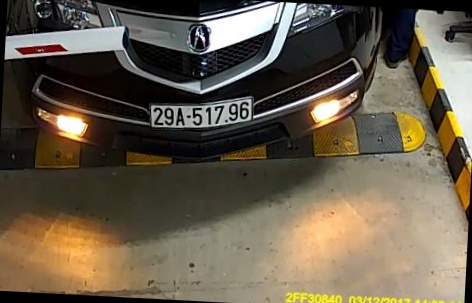plate: (149, 96, 257, 135)
